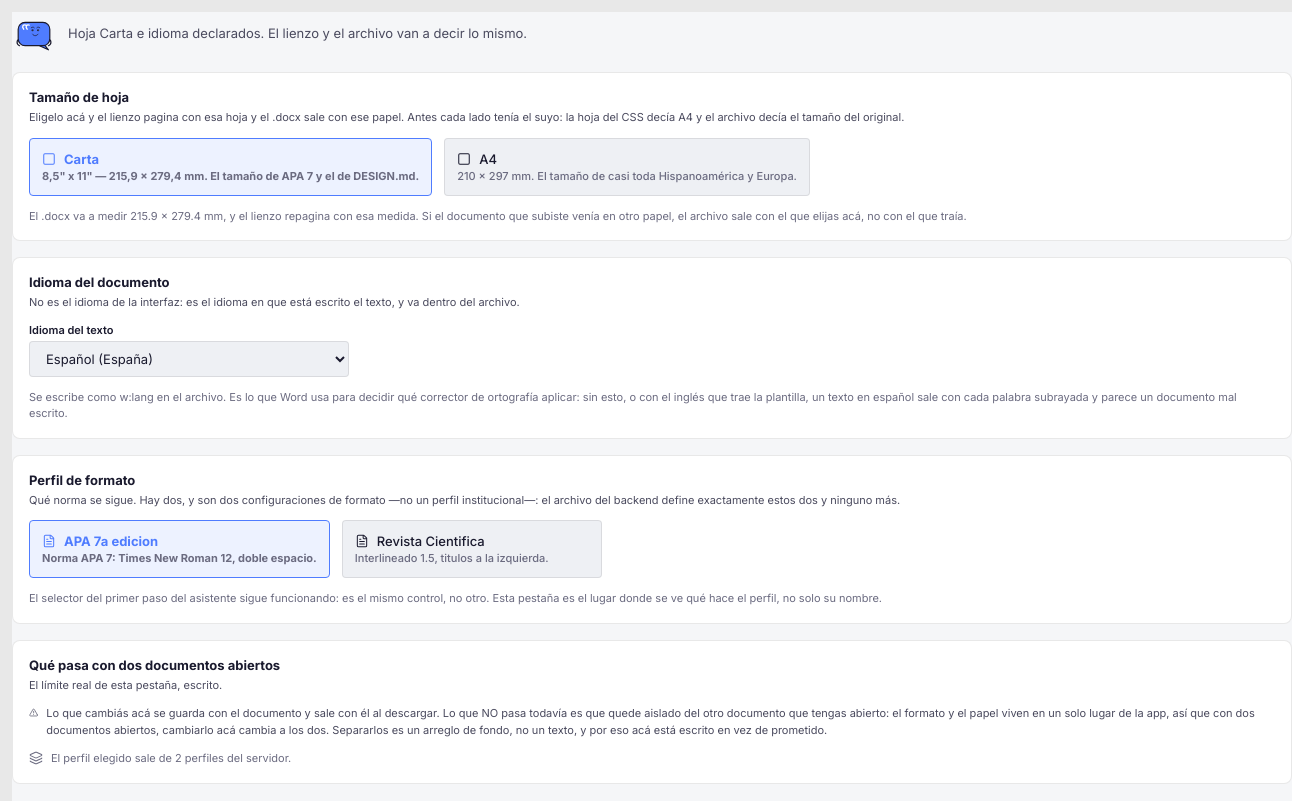
Test: Documento — el tamaño de hoja es un dato, no una constante › el texto dice la medida en milímetros que va a tener el archivo
Expected: the text with test id "documento-hoja-efecto" shows "215.9 x 279.4 mm", [29,208,967,222]
Click the button with test id "campo-page_size-a4" at coordinates (627, 166), box [444,138,810,196]
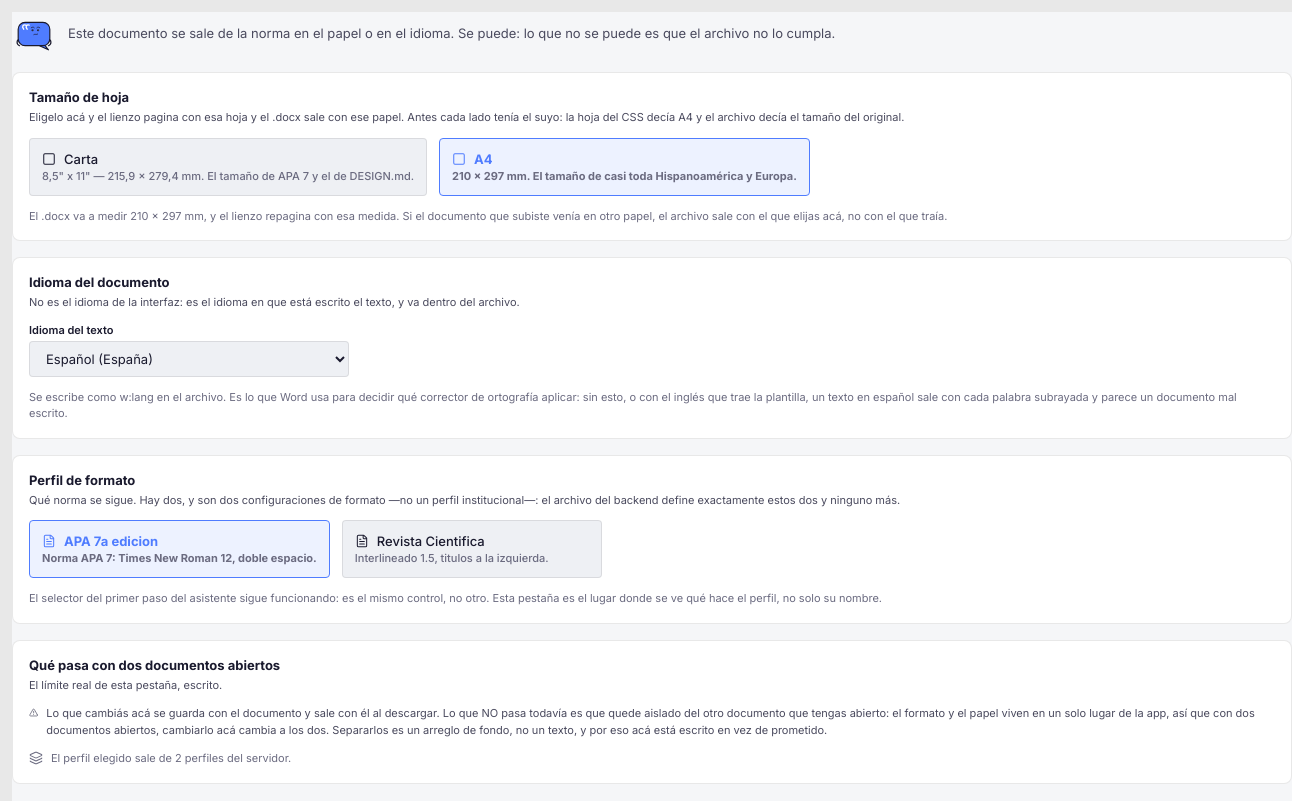
Expected: the text with test id "documento-hoja-efecto" shows "210 x 297 mm", [29,208,947,222]
